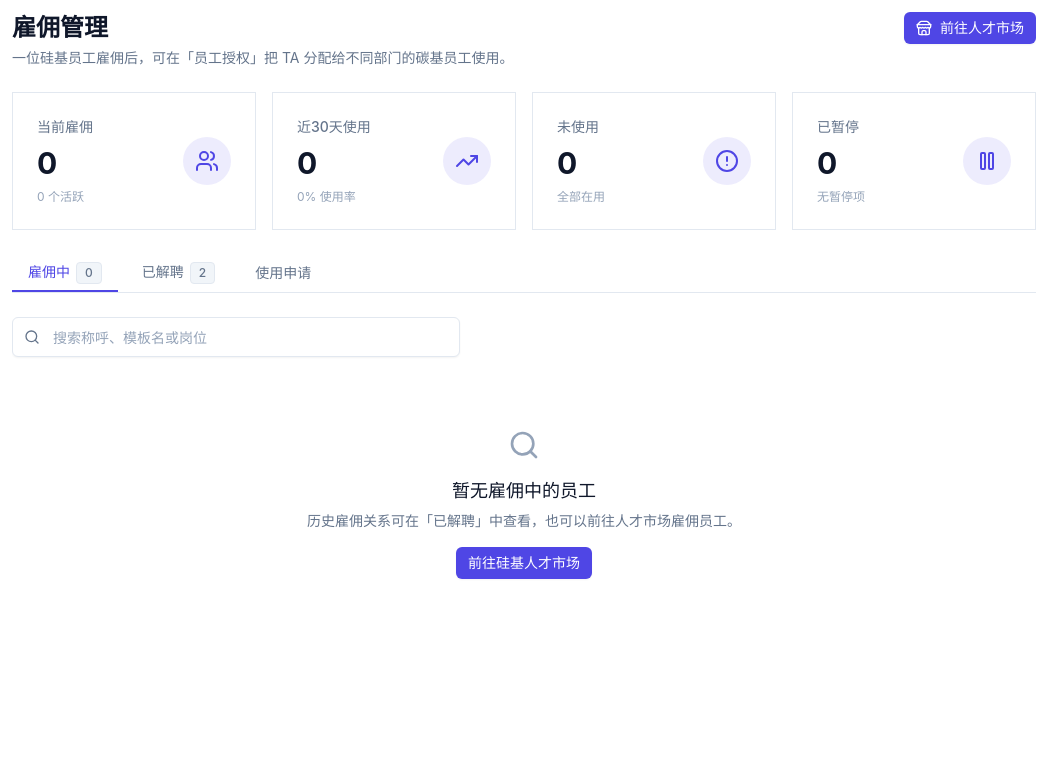
Test: 雇佣管理分类 › 仅有历史记录时默认显示当前雇佣为空，仍可切换查阅历史
Expected: the text "暂无雇佣中的员工" is shown, [452,480,596,501]
Expected: the button "雇佣中 0" is shown, [12,254,118,292]
Step 1. Click the button "已解聘 2" → (178, 273), box [126,254,231,292]
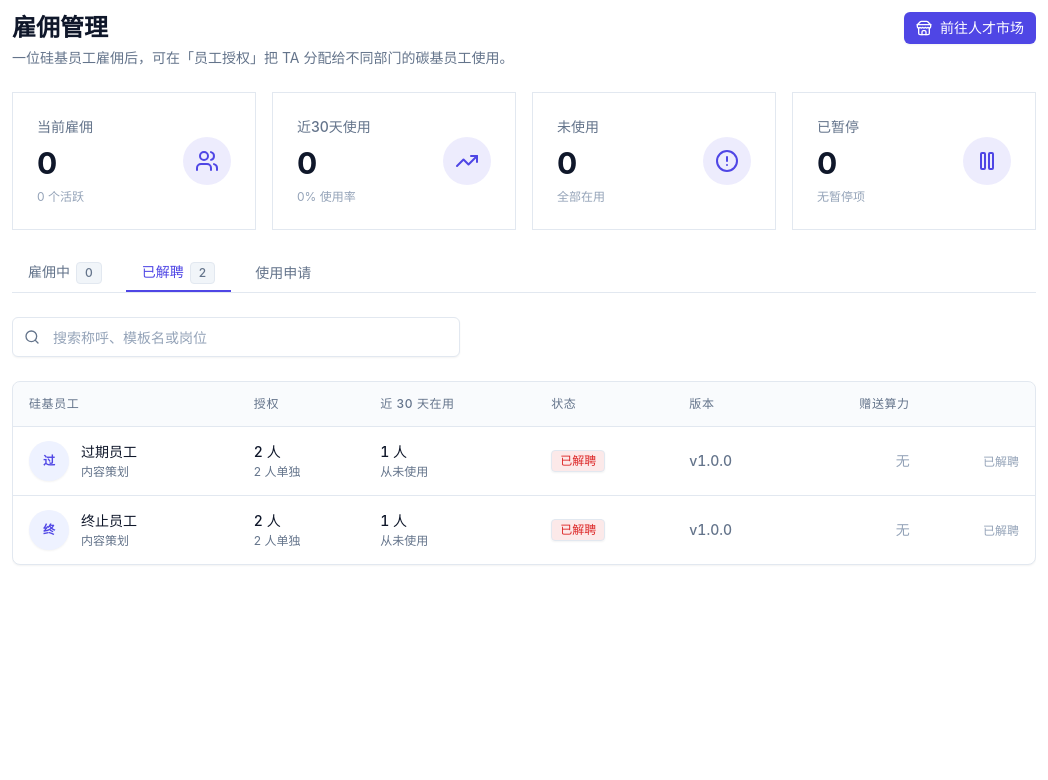
Result: the link "终止员工" is shown at [81,511,137,531]
